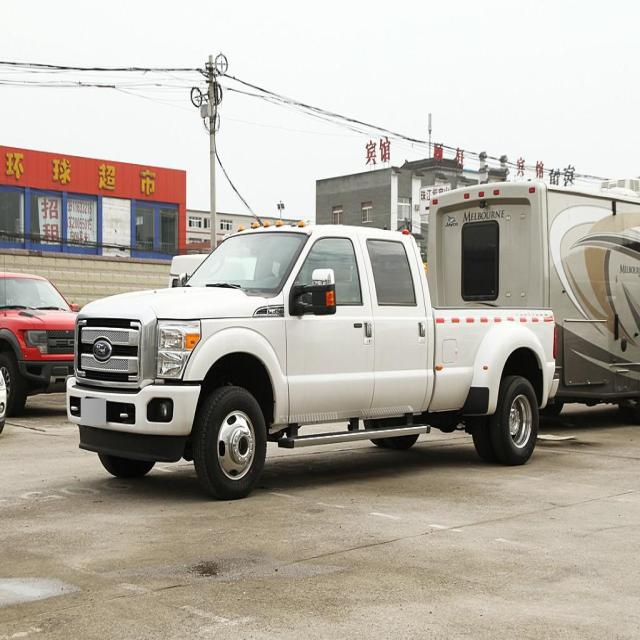door: (360, 233, 430, 422)
front_bumper: (64, 378, 203, 438)
front_glass: (184, 230, 307, 291)
front_left_side_door: (281, 224, 378, 425)
front_left_side_light: (152, 314, 204, 381)
front_left_side_mirror: (294, 266, 338, 319)
wheel: (195, 386, 267, 498), (497, 376, 541, 464)
